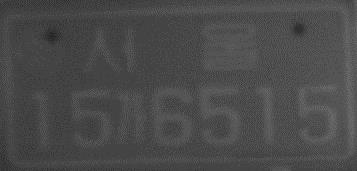1: (28, 88, 57, 155), (250, 83, 279, 148)
5: (198, 83, 243, 150), (294, 81, 340, 146), (69, 88, 114, 151)
6: (152, 84, 193, 149)
가: (113, 90, 150, 150)
서울_D: (79, 19, 263, 78)
영: (14, 26, 70, 84)
